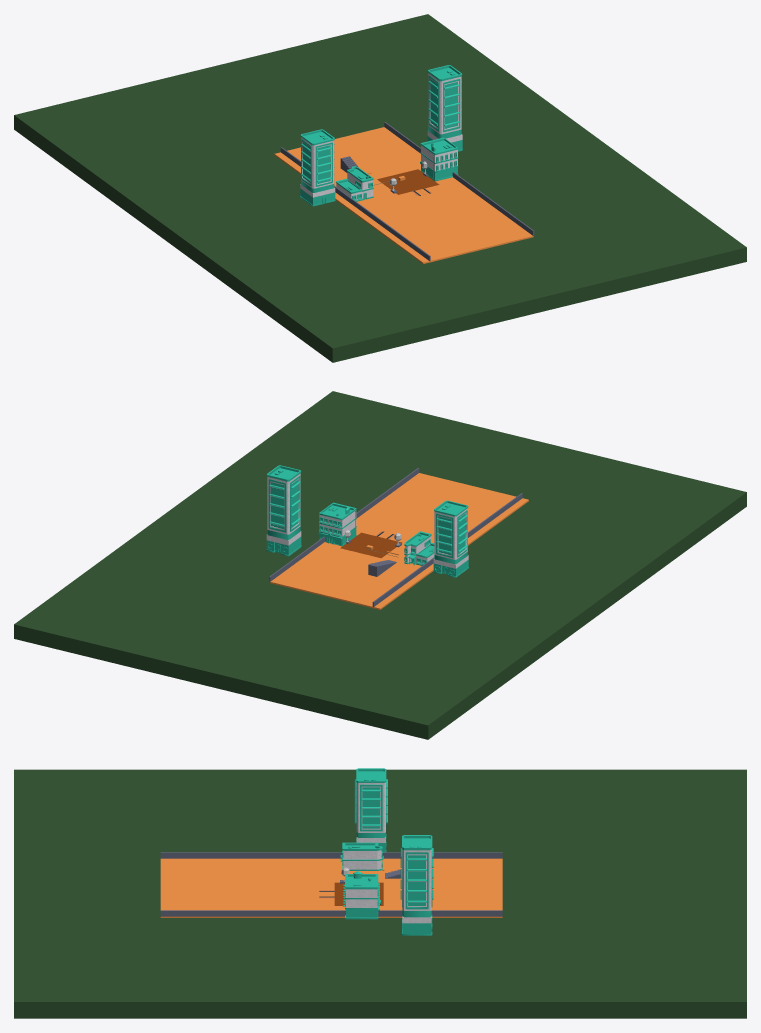
The model's file is Street-2.obj.
3 renders of one model, top to bottom at view 1: azimuth 30°, elevation 25°; view 2: azimuth 150°, elevation 25°; view 3: azimuth 270°, elevation 25°, orthographic. The views are drawn at different scales.
Visible parts, largest first — view 1: surface0, surface1, surface3, surface2, surface11, surface7; view 2: surface0, surface1, surface3, surface2, surface11, surface7; view 3: surface0, surface1, surface3, surface11, surface2.
Part boxes in pixels (bbox=[...]): surface0: bbox=[14, 14, 746, 362]; surface1: bbox=[274, 127, 533, 263]; surface3: bbox=[300, 65, 462, 206]; surface2: bbox=[300, 73, 462, 200]; surface11: bbox=[280, 122, 534, 260]; surface7: bbox=[377, 169, 439, 194]; surface0: bbox=[14, 391, 746, 739]; surface1: bbox=[270, 473, 528, 609]; surface3: bbox=[266, 465, 468, 577]; surface2: bbox=[266, 473, 468, 568]; surface11: bbox=[269, 468, 522, 606]; surface7: bbox=[340, 532, 402, 558]; surface0: bbox=[14, 769, 746, 1018]; surface1: bbox=[160, 858, 502, 917]; surface3: bbox=[340, 768, 433, 935]; surface11: bbox=[160, 852, 502, 916]; surface2: bbox=[343, 782, 431, 923].
Bounding box in the file's own units: 180 × 38.28 × 240.
